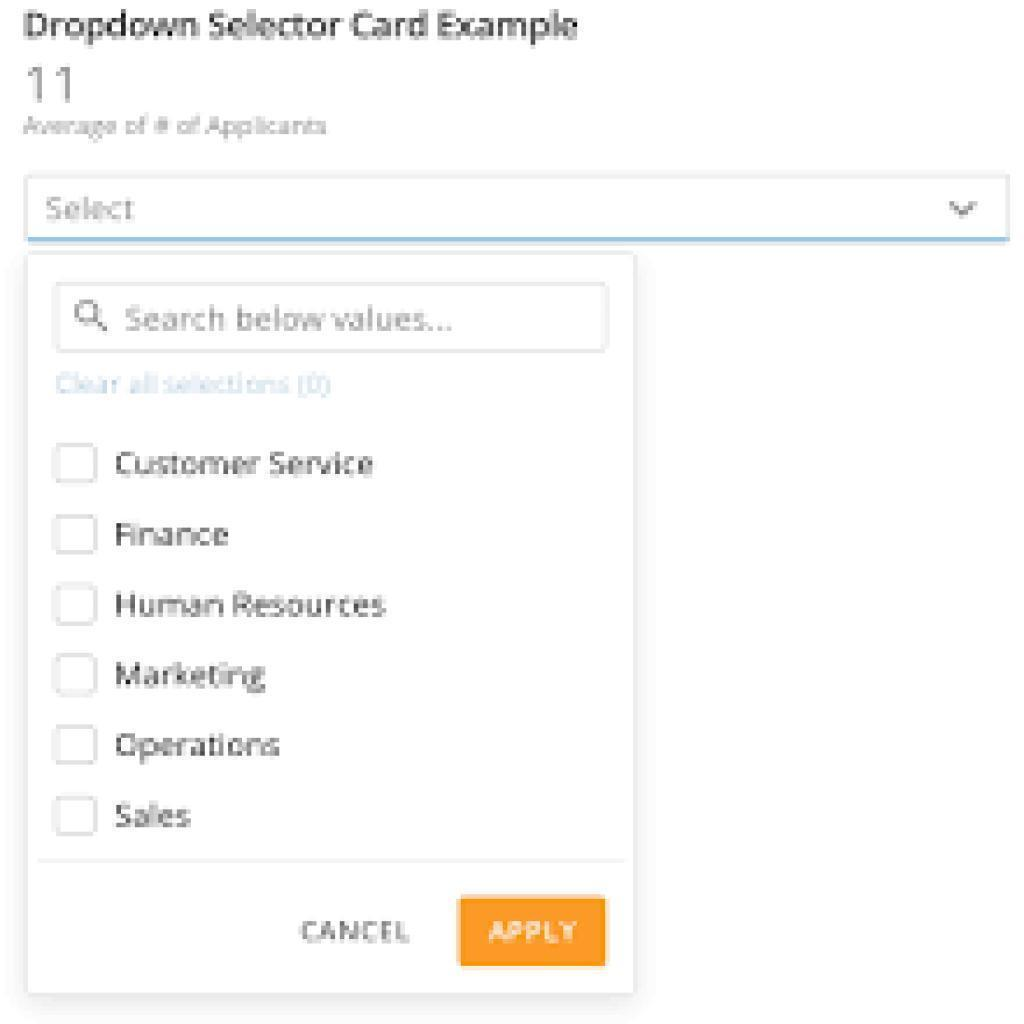checkbox: (54, 583, 99, 629), (52, 656, 99, 699), (52, 794, 98, 836), (53, 444, 96, 486), (55, 513, 98, 553), (54, 724, 94, 763)
dropdown: (23, 176, 1006, 240)
input: (55, 280, 607, 354), (455, 894, 604, 962)
label: (114, 583, 394, 631), (116, 436, 379, 487), (114, 725, 290, 770), (113, 650, 272, 695), (303, 913, 414, 957), (108, 514, 233, 551), (109, 798, 196, 833)
